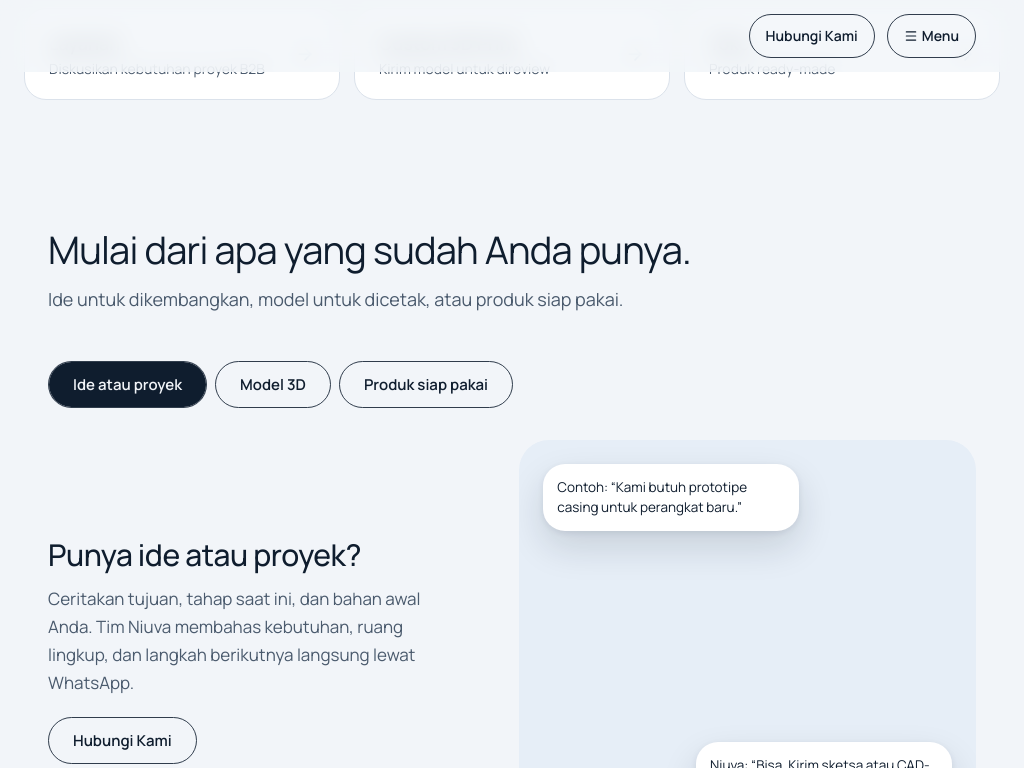
public homepage › switches one starting point at a time with pressed option chips
The width and height of the screenshot is (1024, 768).
(page scrolled)
expect the heading "Sudah punya model 3D?" is not shown: met
Click the button "Model 3D" at (273, 385), box [215,361,331,408]
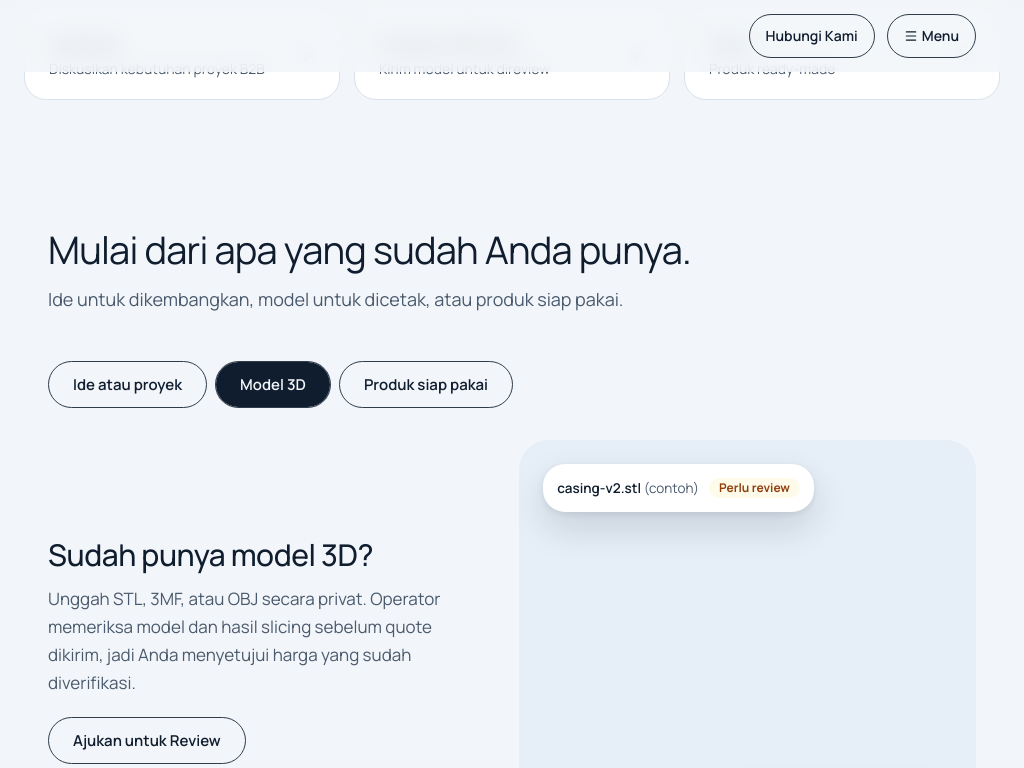
expect the heading "Sudah punya model 3D?" is shown: met, box [48,534,373,575]
expect the heading "Punya ide atau proyek?" is gone: met
Click the button "Produk siap pakai" at (426, 385), box [339,361,513,408]
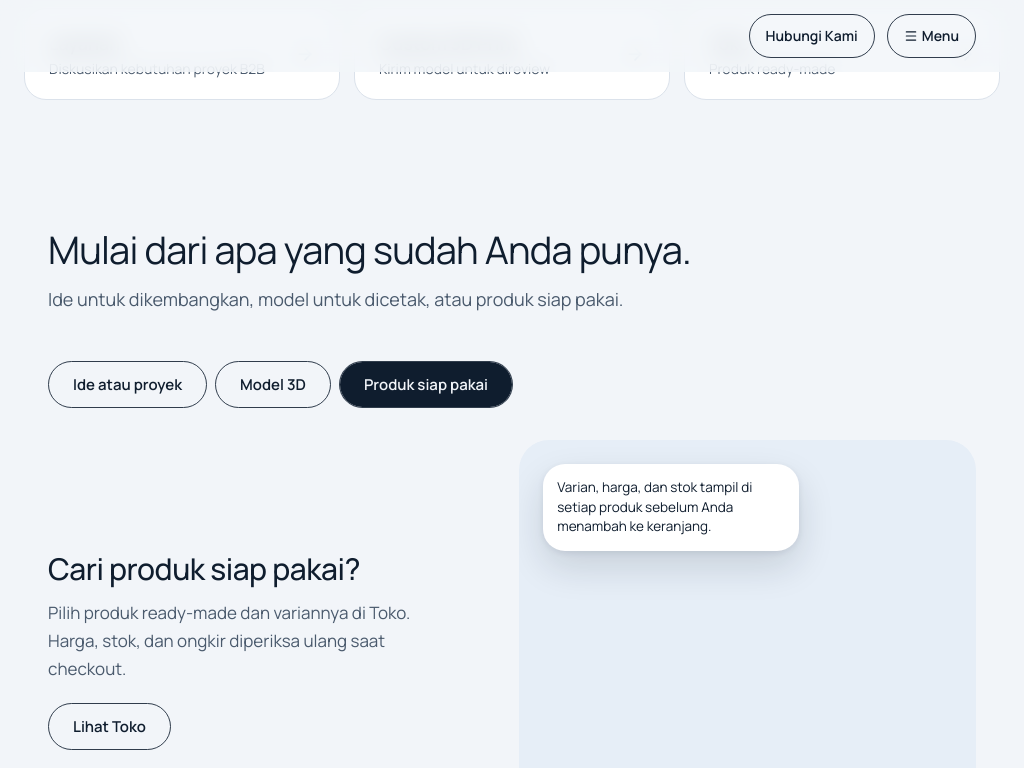
expect the heading "Cari produk siap pakai?" is shown: met, box [48,548,360,589]
